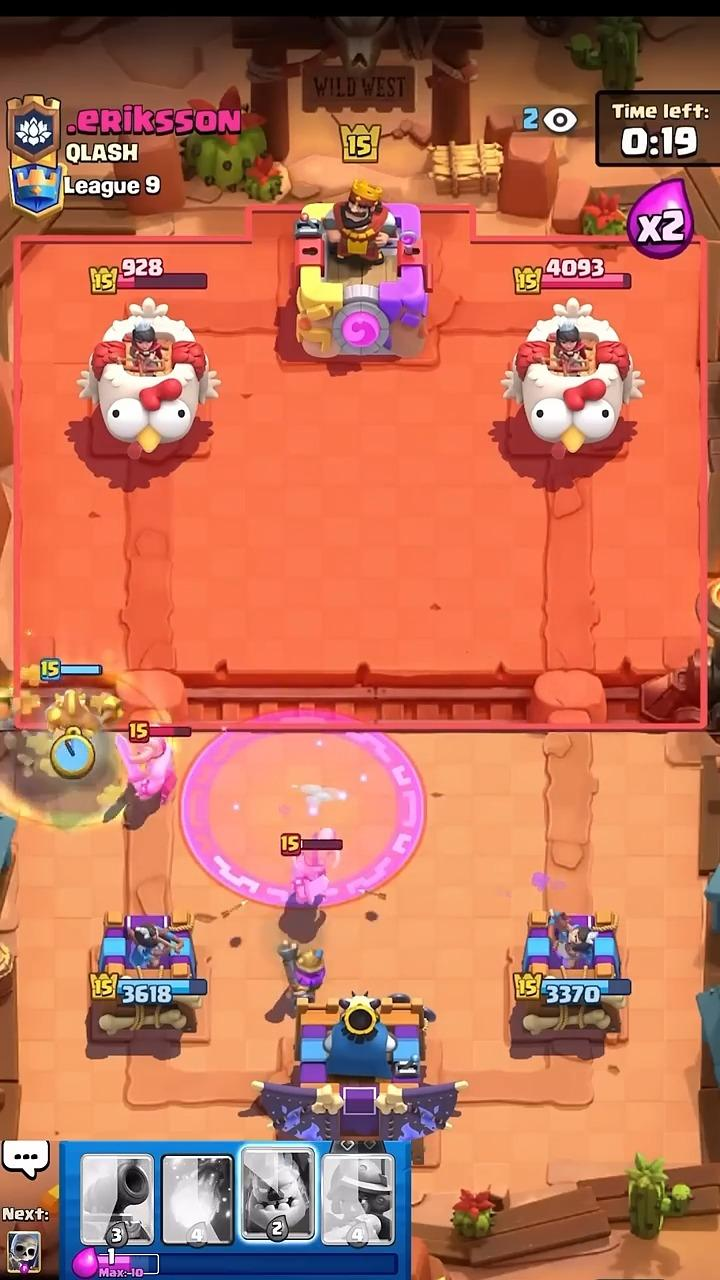elite barbarians: (118, 737, 175, 802), (290, 849, 329, 906), (317, 828, 334, 838)
hog rider: (47, 688, 122, 737)
musketeer: (278, 940, 324, 1001)
rage: (180, 713, 426, 907)
